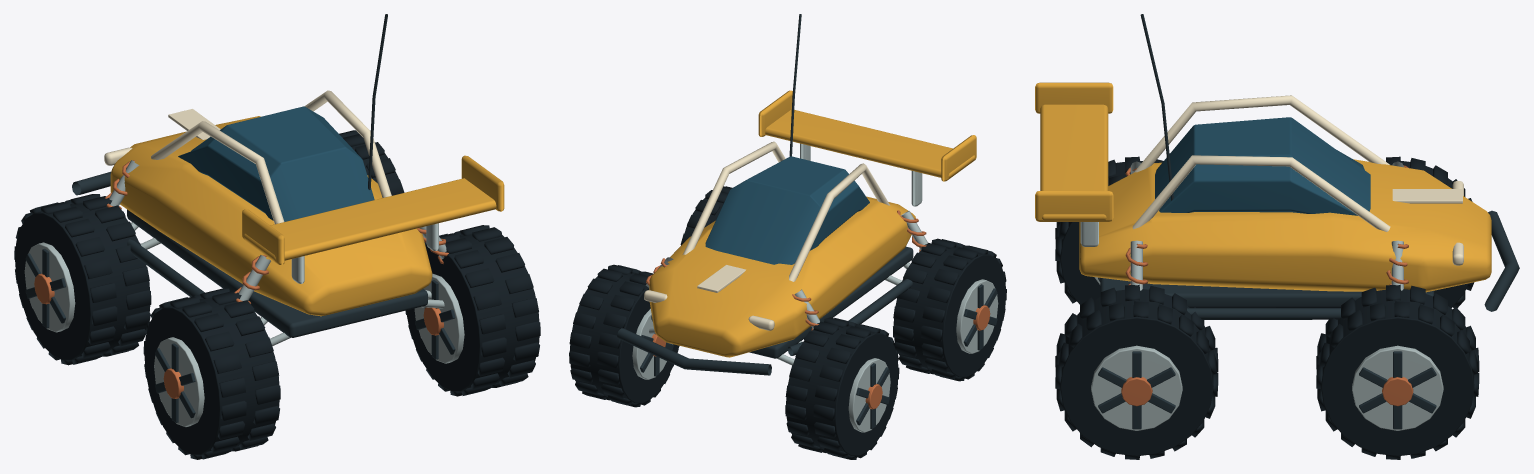
Rendered from buggy.glb.
3 renders of one model, left to right at view 1: azimuth 30°, elevation 25°; view 2: azimuth 150°, elevation 25°; view 3: azimuth 270°, elevation 25°, orthographic. The views are drawn at different scales.
Visible parts, largest first — view 1: Mesh_Body_shell, Mesh_Wheel_RL_rubber, Mesh_Wheel_FL_rubber, Mesh_Wheel_RR_rubber, RakedCanopy, Mesh_Body_graphite, Mesh_Body_ivory, Mesh_Body_alloy, Mesh_Wheel_FL_alloy, Mesh_Wheel_RL_alloy, Mesh_Wheel_RR_alloy, Mesh_Wheel_FR_rubber (+4 smaller); view 2: Mesh_Body_shell, RakedCanopy, Mesh_Wheel_FL_rubber, Mesh_Wheel_RL_rubber, Mesh_Wheel_FR_rubber, Mesh_Body_graphite, Mesh_Body_ivory, Mesh_Wheel_RL_alloy, Mesh_Wheel_FL_alloy, Mesh_Body_alloy, Mesh_Wheel_FR_alloy, Mesh_Wheel_RR_rubber (+3 smaller); view 3: Mesh_Body_shell, Mesh_Wheel_FR_rubber, Mesh_Wheel_RR_rubber, RakedCanopy, Mesh_Body_graphite, Mesh_Body_ivory, Mesh_Wheel_RR_alloy, Mesh_Wheel_FR_alloy, Mesh_Wheel_RL_rubber, Mesh_Wheel_RR_graphite, Mesh_Wheel_FR_graphite, Mesh_Body_alloy (+4 smaller).
Boxes of the visible parts, x1,y1,x2,y2 form: Mesh_Body_shell: [110, 116, 504, 316]; Mesh_Wheel_RL_rubber: [143, 288, 280, 459]; Mesh_Wheel_FL_rubber: [14, 194, 151, 365]; Mesh_Wheel_RR_rubber: [405, 225, 540, 396]; RakedCanopy: [178, 106, 374, 221]; Mesh_Body_graphite: [72, 14, 427, 337]; Mesh_Body_ivory: [104, 90, 391, 224]; Mesh_Body_alloy: [109, 160, 446, 345]; Mesh_Wheel_FL_alloy: [24, 242, 75, 332]; Mesh_Wheel_RL_alloy: [154, 337, 204, 426]; Mesh_Wheel_RR_alloy: [414, 273, 464, 363]; Mesh_Wheel_FR_rubber: [339, 130, 404, 195]; Mesh_Body_shell: [649, 90, 976, 357]; RakedCanopy: [705, 156, 869, 264]; Mesh_Wheel_FL_rubber: [785, 317, 899, 459]; Mesh_Wheel_RL_rubber: [893, 238, 1006, 381]; Mesh_Wheel_FR_rubber: [569, 264, 679, 407]; Mesh_Body_graphite: [617, 14, 913, 375]; Mesh_Body_ivory: [644, 141, 890, 330]; Mesh_Wheel_RL_alloy: [956, 279, 998, 353]; Mesh_Wheel_FL_alloy: [848, 358, 890, 432]; Mesh_Body_alloy: [645, 143, 927, 365]; Mesh_Wheel_FR_alloy: [632, 309, 672, 379]; Mesh_Wheel_RR_rubber: [680, 186, 732, 245]; Mesh_Body_shell: [1035, 82, 1491, 292]; Mesh_Wheel_FR_rubber: [1316, 284, 1479, 459]; Mesh_Wheel_RR_rubber: [1055, 284, 1218, 459]; RakedCanopy: [1155, 117, 1370, 215]; Mesh_Body_graphite: [1100, 14, 1519, 319]; Mesh_Body_ivory: [1132, 95, 1463, 265]; Mesh_Wheel_RR_alloy: [1091, 345, 1182, 430]; Mesh_Wheel_FR_alloy: [1352, 345, 1443, 430]; Mesh_Wheel_RL_rubber: [1055, 156, 1163, 305]; Mesh_Wheel_RR_graphite: [1098, 351, 1175, 429]; Mesh_Wheel_FR_graphite: [1359, 351, 1436, 429]; Mesh_Body_alloy: [1080, 161, 1403, 290].
Size of what is drawn, in the model's own units: 0.764 by 0.8267 by 0.929.
